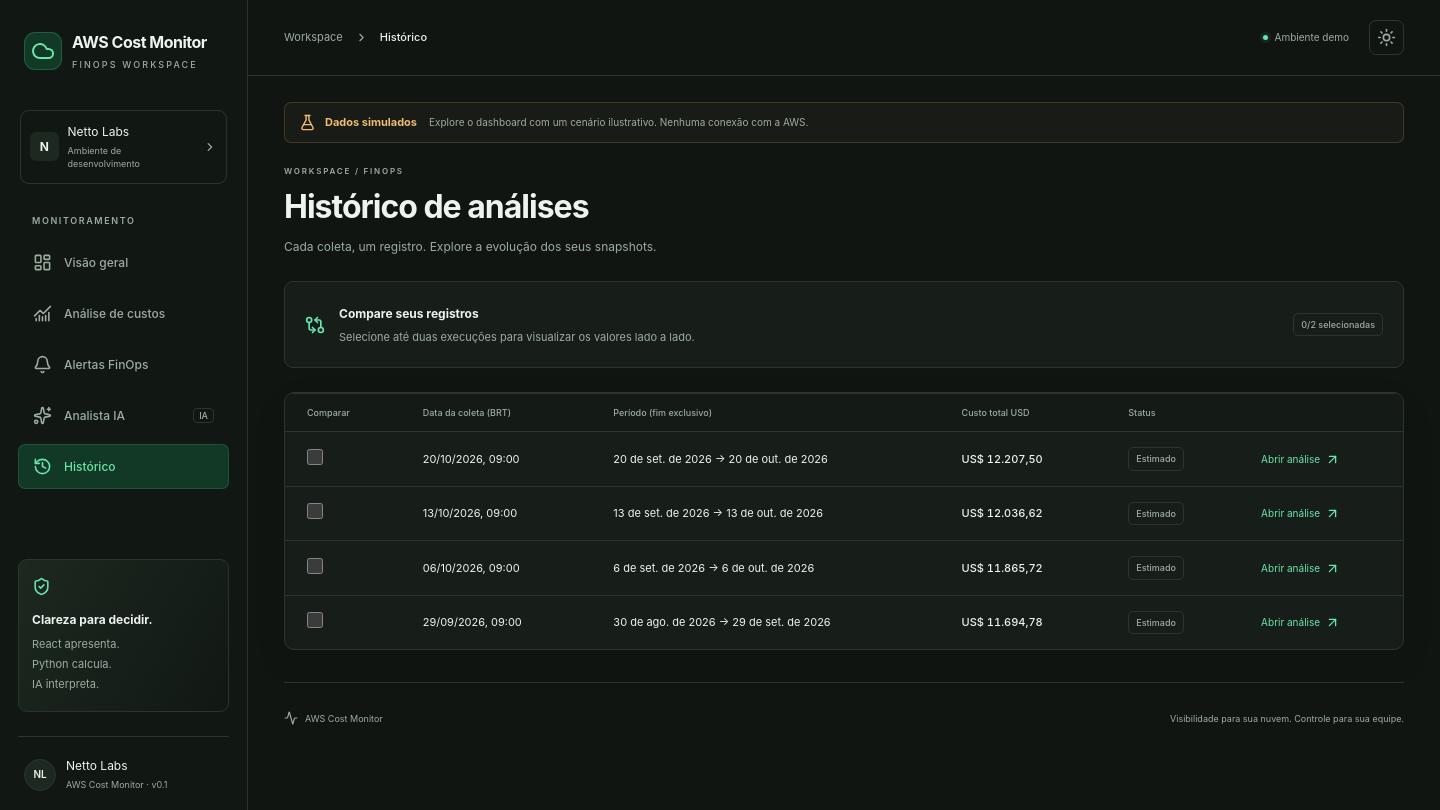
Test: limits history comparison to two runs and allows deselecting
This screenshot has width=1440, height=810.
Click the checkbox named "Comparar coleta de 20/10/2026, 09:00" at (315, 457), box [307,449,323,465]
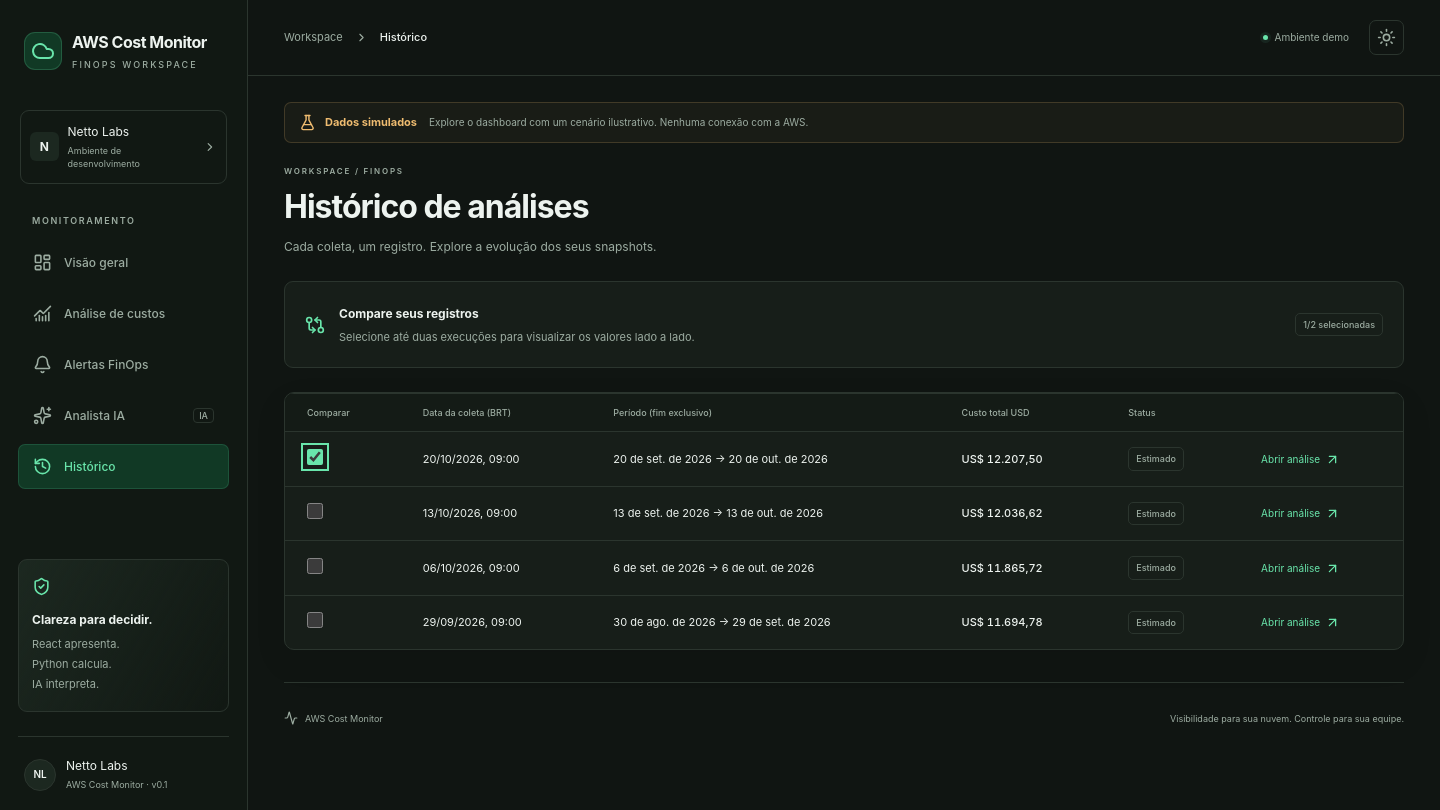
Click the checkbox named "Comparar coleta de 13/10/2026, 09:00" at (315, 512), box [307,504,323,520]
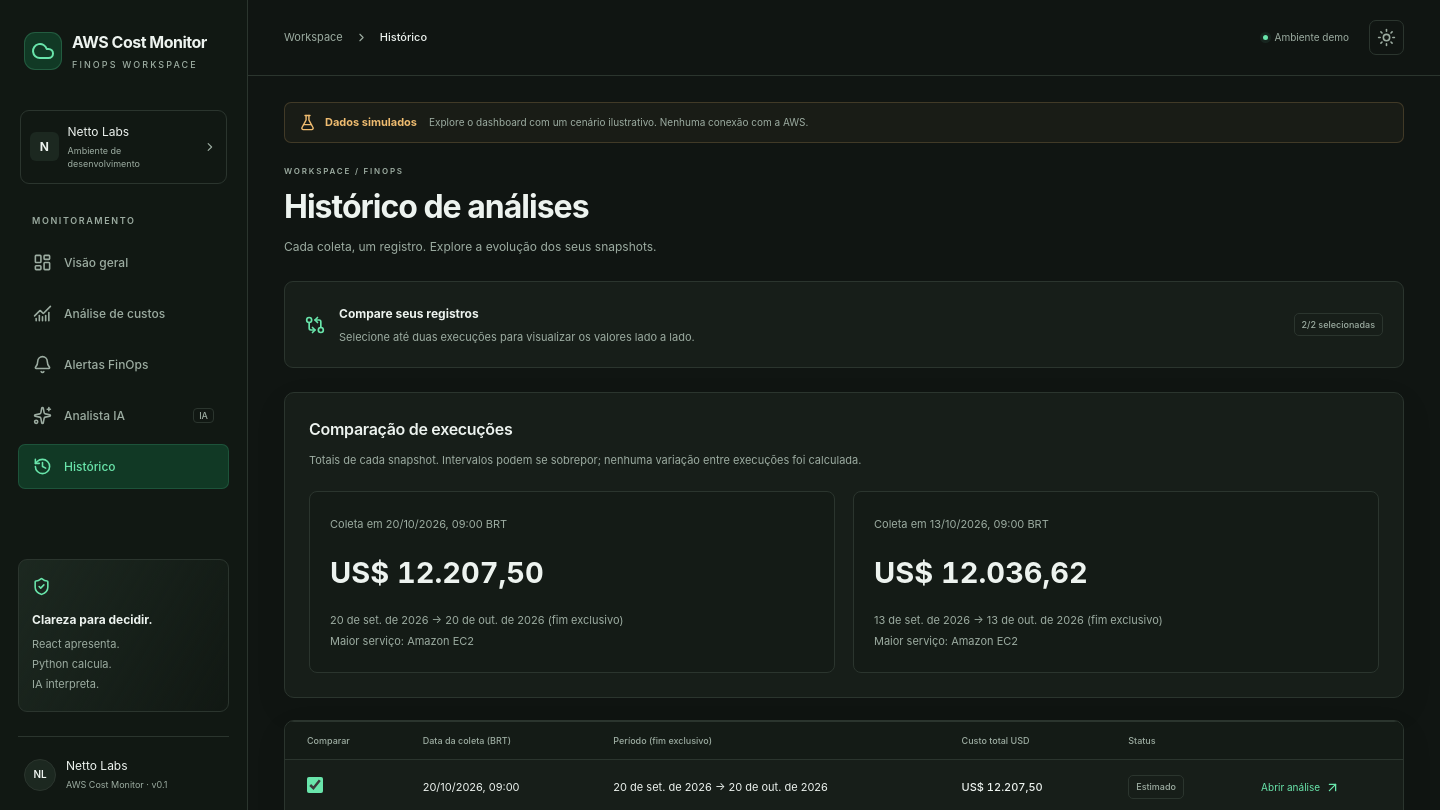
Click the checkbox at (315, 785), box [307,777,323,793]
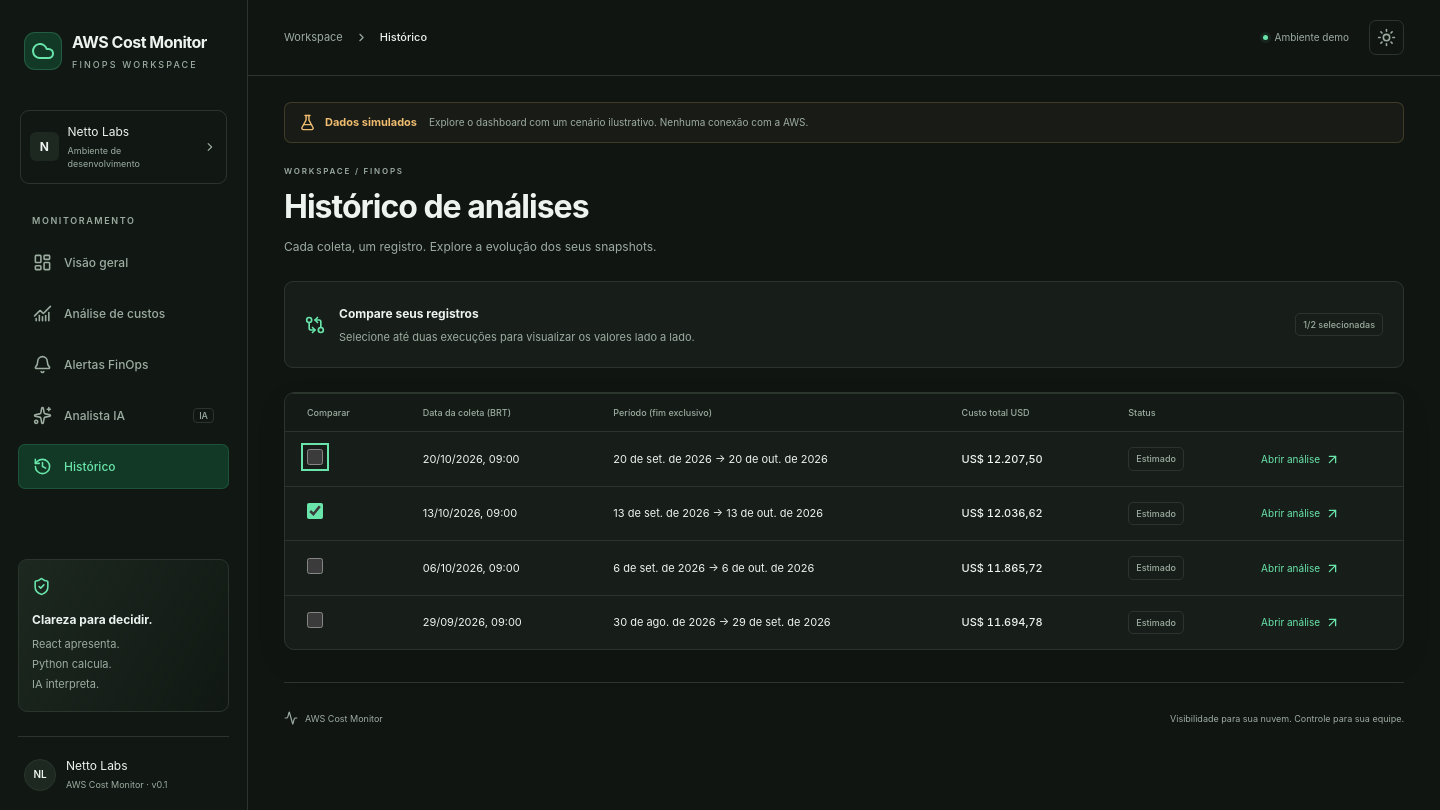
Check: the checkbox named "Comparar coleta de 06/10/2026, 09:00" is enabled, box [307,558,323,574]
Check: the heading "Comparação de execuções" is gone
